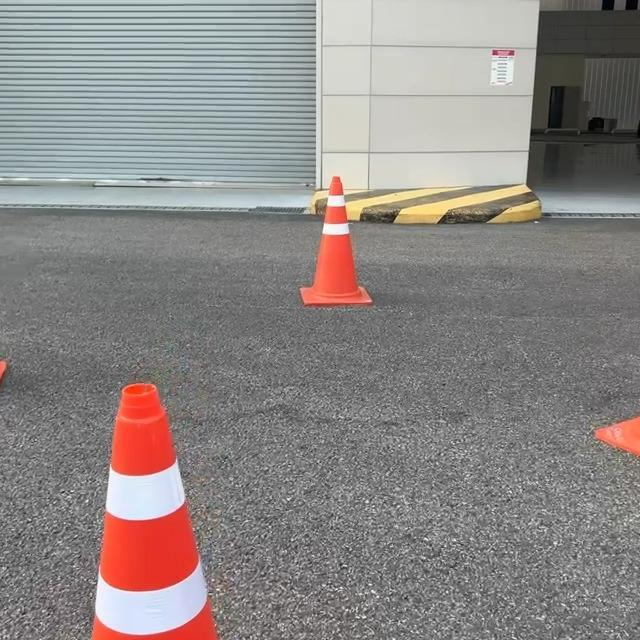fallen_object: (65, 339, 250, 640), (280, 165, 401, 340)
